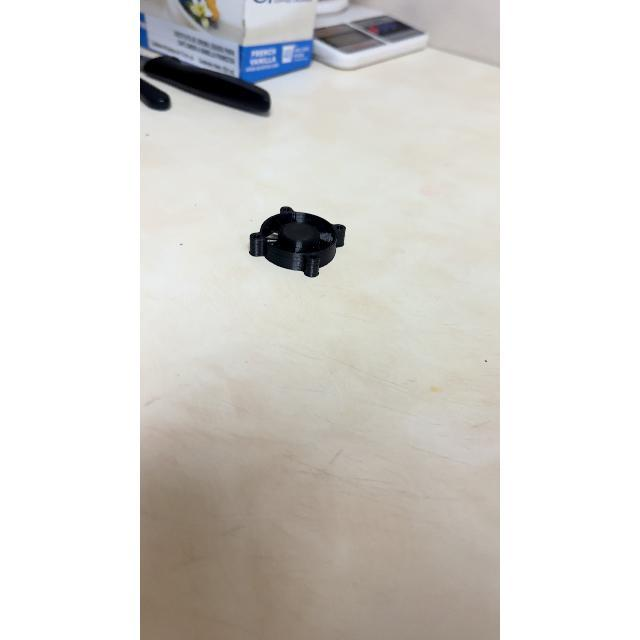Pieza4: (225, 181, 371, 293)
